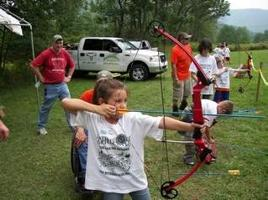person: (61, 78, 209, 198)
